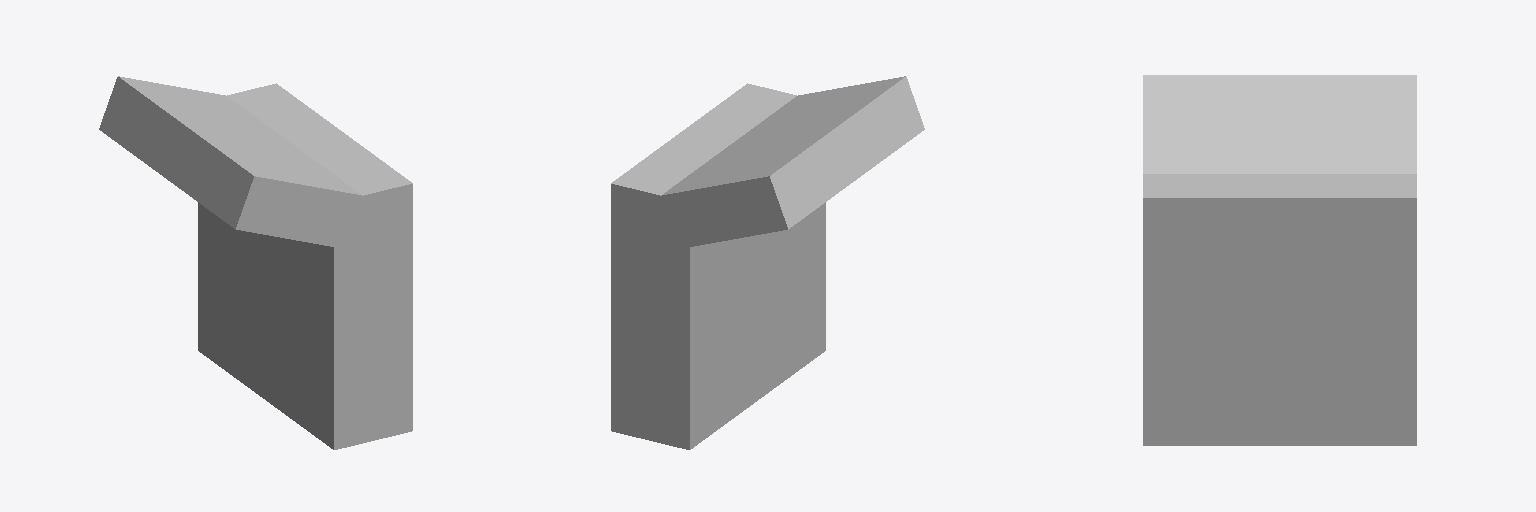
The model's file is Clip.obj.
3 views of the same model, side by side, from view 1: azimuth 30°, elevation 25°; view 2: azimuth 150°, elevation 25°; view 3: azimuth 270°, elevation 25° (orthographic).
Parts seen in each view (by area): view 1: obj_0; view 2: obj_0; view 3: obj_0.
Part boxes in pixels (x1,y1,x2,y2): obj_0: (99, 76, 412, 449); obj_0: (611, 76, 924, 449); obj_0: (1143, 75, 1416, 445).
Size of the model in its own units: 0.09 by 0.1423 by 0.12.